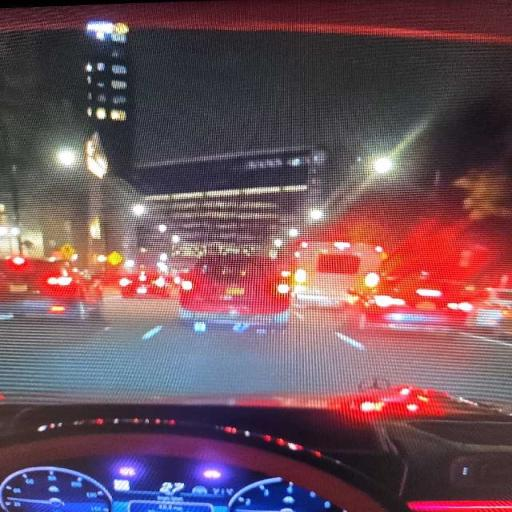car: (180, 256, 290, 329), (356, 273, 475, 329), (0, 256, 102, 319), (294, 241, 381, 307), (468, 288, 511, 337), (119, 270, 173, 298)
lane: (0, 298, 511, 400)
